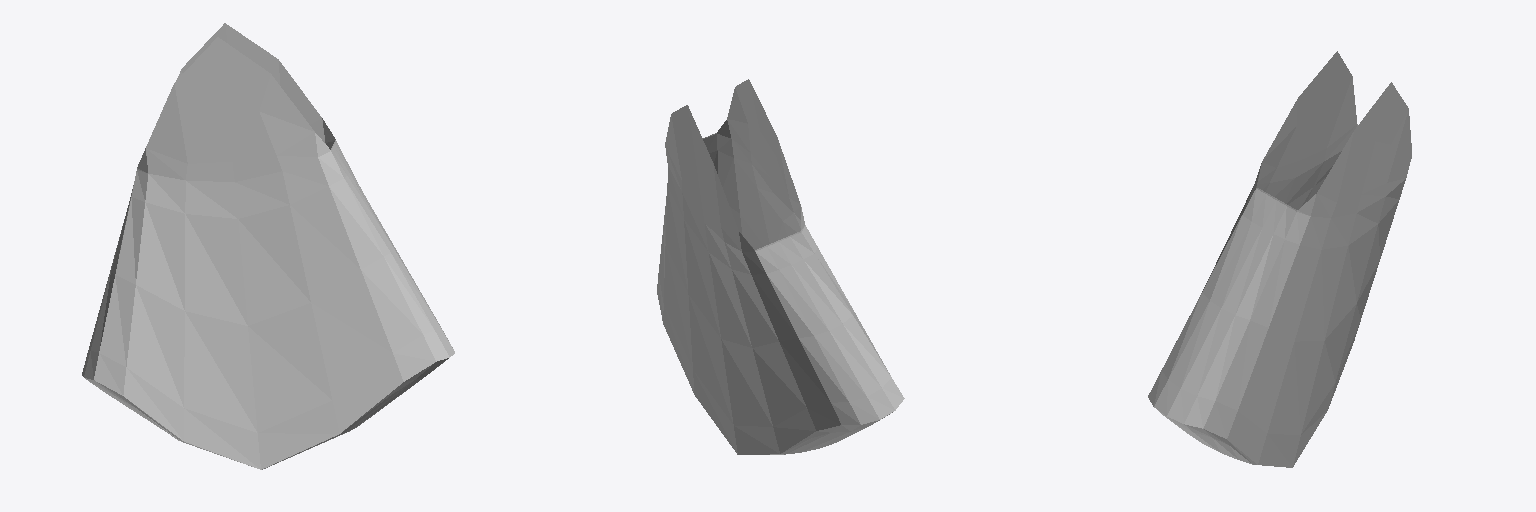
File: SubTool-4-12980674.OBJ
3 views of the same model, side by side, from view 1: azimuth 30°, elevation 25°; view 2: azimuth 150°, elevation 25°; view 3: azimuth 270°, elevation 25° (orthographic).
Parts seen in each view (by area): view 1: Group29; view 2: Group29; view 3: Group29.
Boxes of the visible parts, x1=… form: Group29: x1=82, y1=23, x2=454, y2=469; Group29: x1=657, y1=79, x2=904, y2=454; Group29: x1=1148, y1=51, x2=1411, y2=467.
Size of the model in its own units: 1.72 by 2.2 by 1.31.